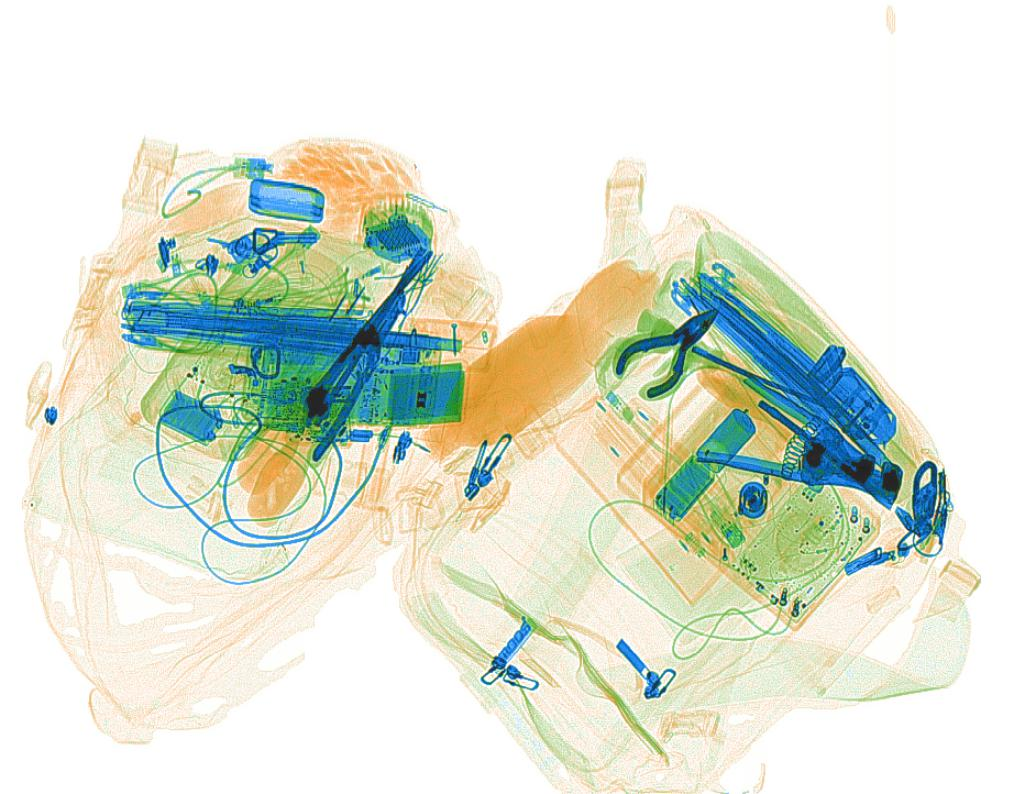battery: (654, 454, 716, 524), (156, 387, 222, 443)
